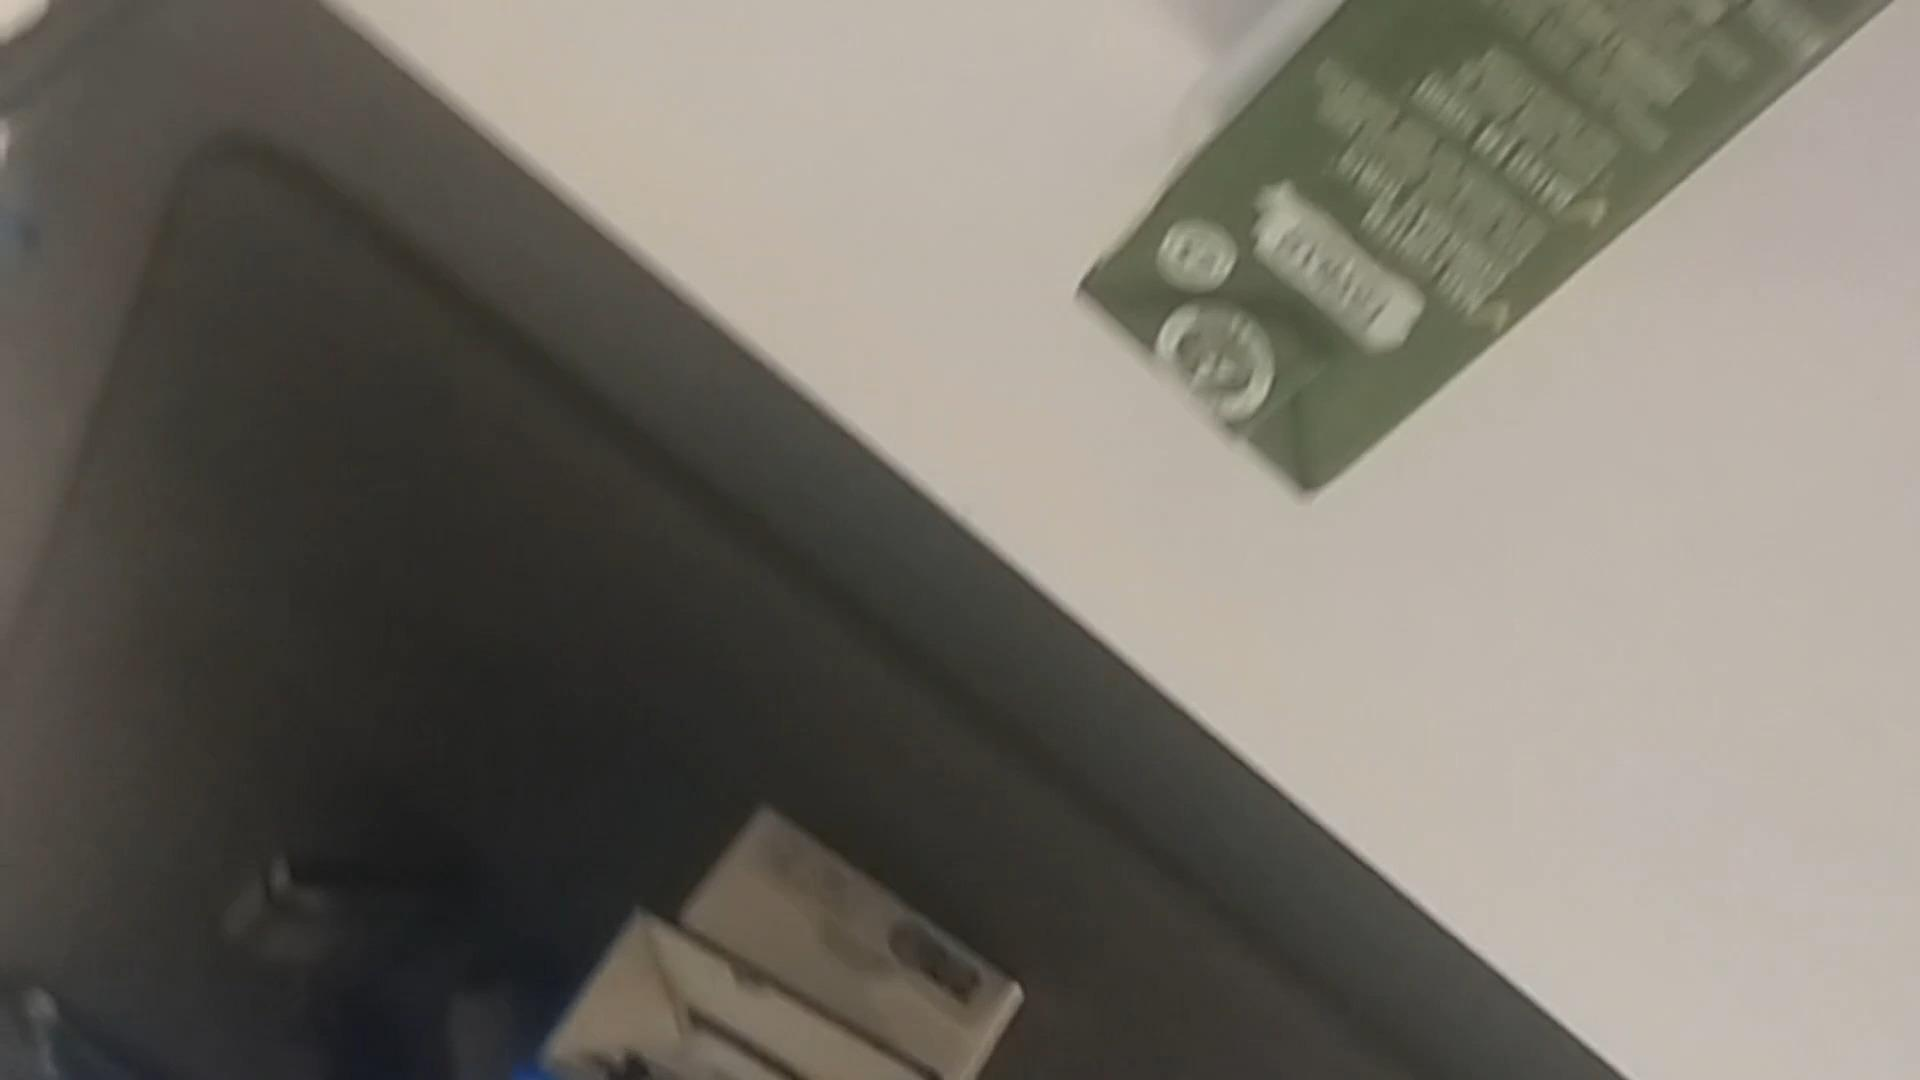coco: (1069, 0, 1920, 488)
